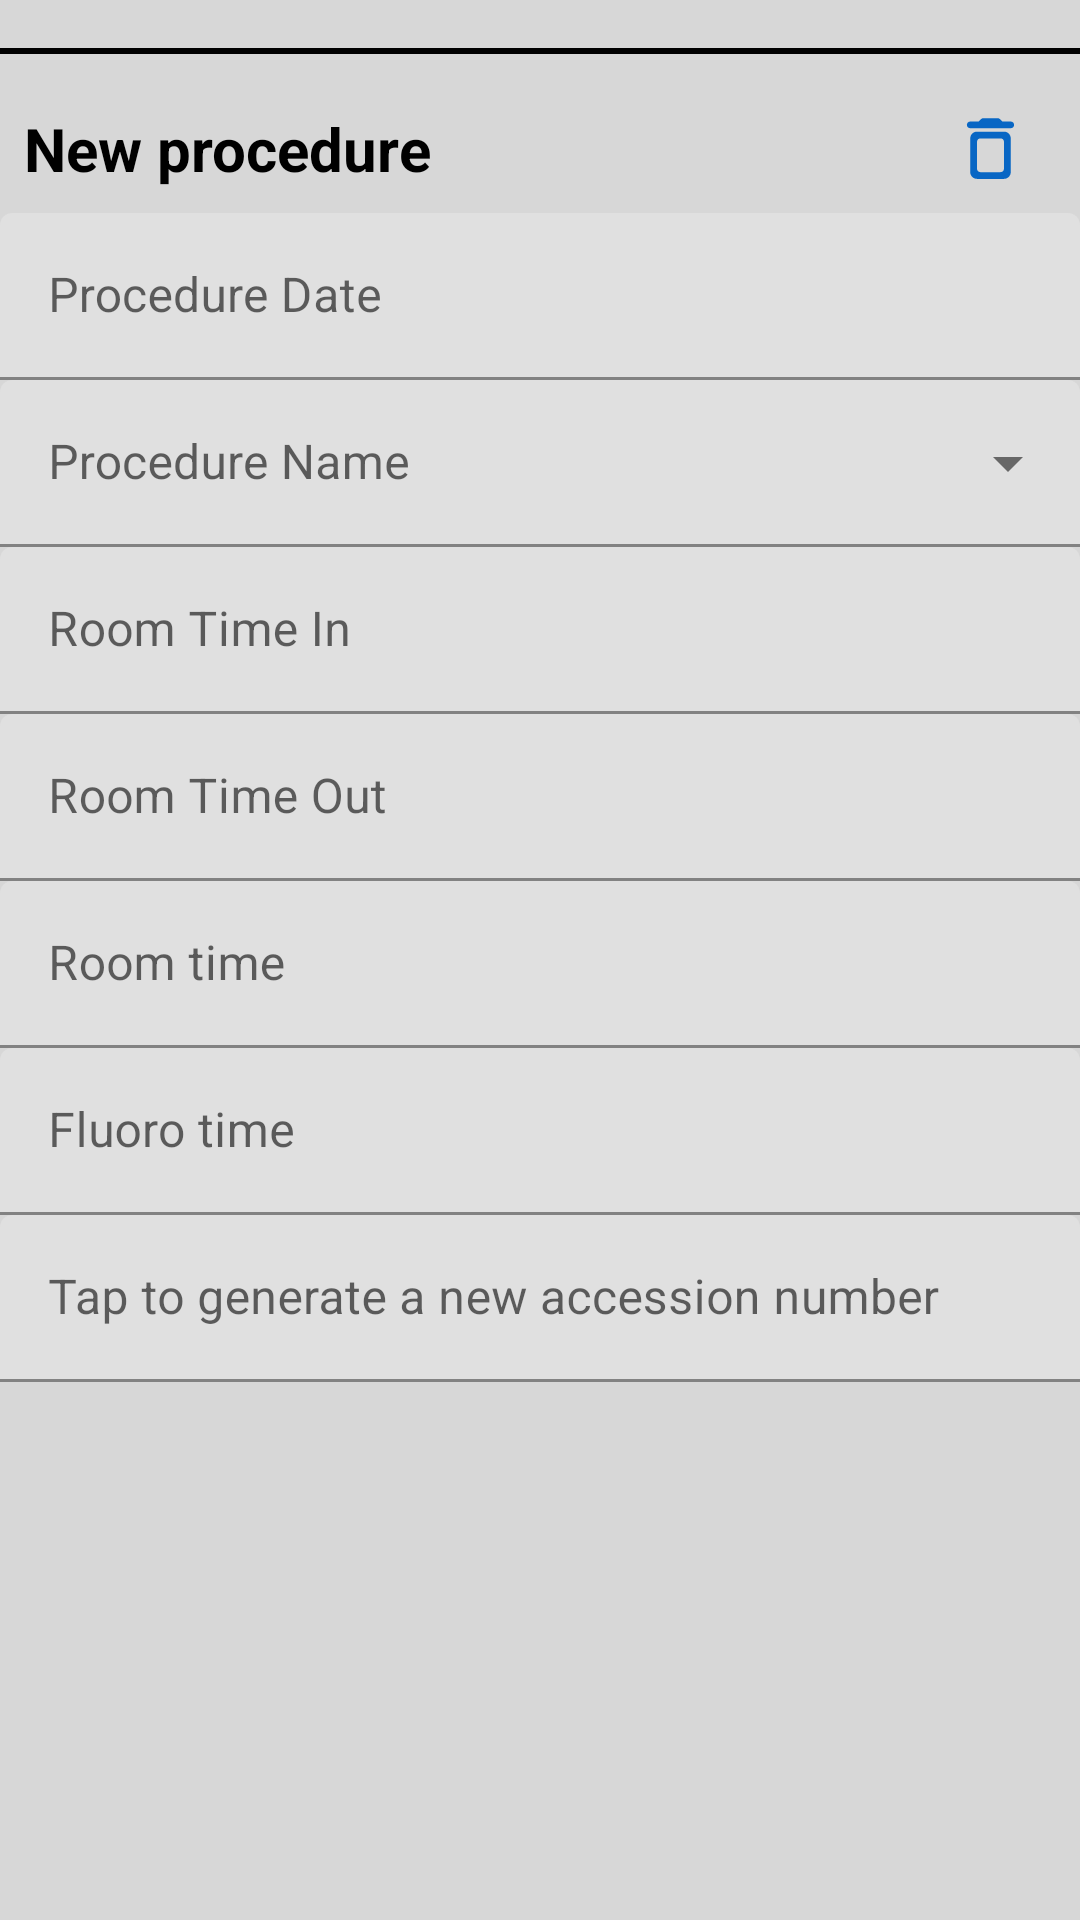

Screen size 1080px x 1920px. Icon name, then its center in pixels as (x,y):
delete: (990,148)
